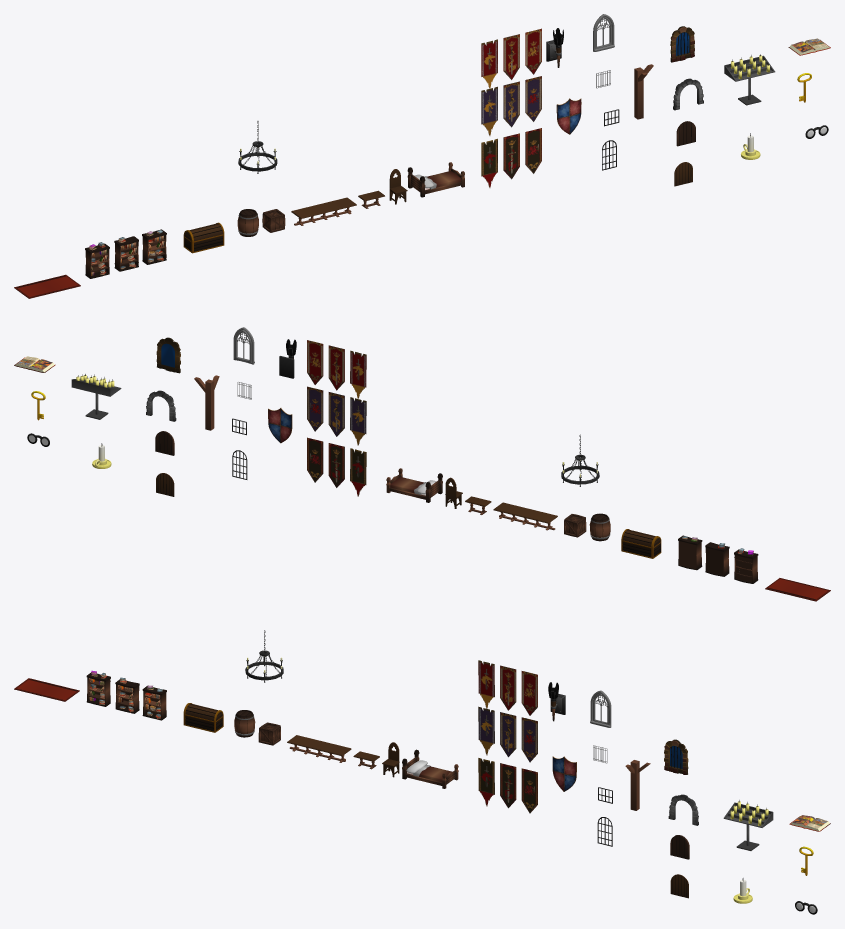
File: Objetosprof.fbx
The picture shows the model from 3 angles, top to bottom: view 1: azimuth 30°, elevation 25°; view 2: azimuth 150°, elevation 25°; view 3: azimuth 330°, elevation 25°; orthographic projection.
Parts seen in each view (by area): view 1: Cube, cama, Circle.002, mesaGrande, alfombra, estanteria3, estanteria2, estanteria1, ventanal, escudo, Plane.004, Plane.001 (+11 smaller); view 2: cama, Circle.002, Cube, mesaGrande, alfombra, estanteria3, estanteria1, estanteria2, ventanal, escudo, Plane.008, Plane.001 (+11 smaller); view 3: Cube, cama, Circle.002, mesaGrande, alfombra, estanteria3, estanteria1, estanteria2, ventanal, escudo, Plane.002, Plane.003 (+10 smaller).
Boxes of the visible parts, x1,y1,x2,y2 form: Cube: [724, 54, 775, 105]; cama: [407, 162, 464, 197]; Circle.002: [183, 222, 224, 253]; mesaGrande: [291, 197, 356, 225]; alfombra: [14, 274, 80, 298]; estanteria3: [85, 242, 109, 278]; estanteria2: [142, 229, 166, 264]; estanteria1: [114, 236, 138, 271]; ventanal: [670, 26, 694, 62]; escudo: [556, 98, 581, 134]; Plane.004: [503, 34, 519, 79]; Plane.001: [481, 86, 497, 135]; cama: [386, 468, 442, 502]; Circle.002: [621, 529, 661, 558]; Cube: [71, 374, 121, 419]; mesaGrande: [493, 502, 557, 530]; alfombra: [765, 578, 830, 601]; estanteria3: [734, 548, 758, 583]; estanteria1: [705, 542, 729, 576]; estanteria2: [678, 535, 702, 570]; ventanal: [156, 337, 180, 373]; escudo: [268, 408, 292, 443]; Plane.008: [350, 448, 366, 496]; Plane.001: [350, 397, 366, 445]; Cube: [723, 800, 773, 850]; cama: [402, 749, 458, 788]; Circle.002: [183, 703, 223, 732]; mesaGrande: [287, 735, 351, 762]; alfombra: [14, 678, 79, 701]; estanteria3: [86, 670, 110, 706]; estanteria1: [115, 677, 139, 713]; estanteria2: [142, 685, 166, 720]; ventanal: [664, 739, 688, 774]; escudo: [552, 756, 576, 791]; Plane.002: [500, 712, 516, 757]; Plane.003: [478, 660, 494, 708].
Bounding box in the file's own units: 114 × 25.71 × 5.59.
